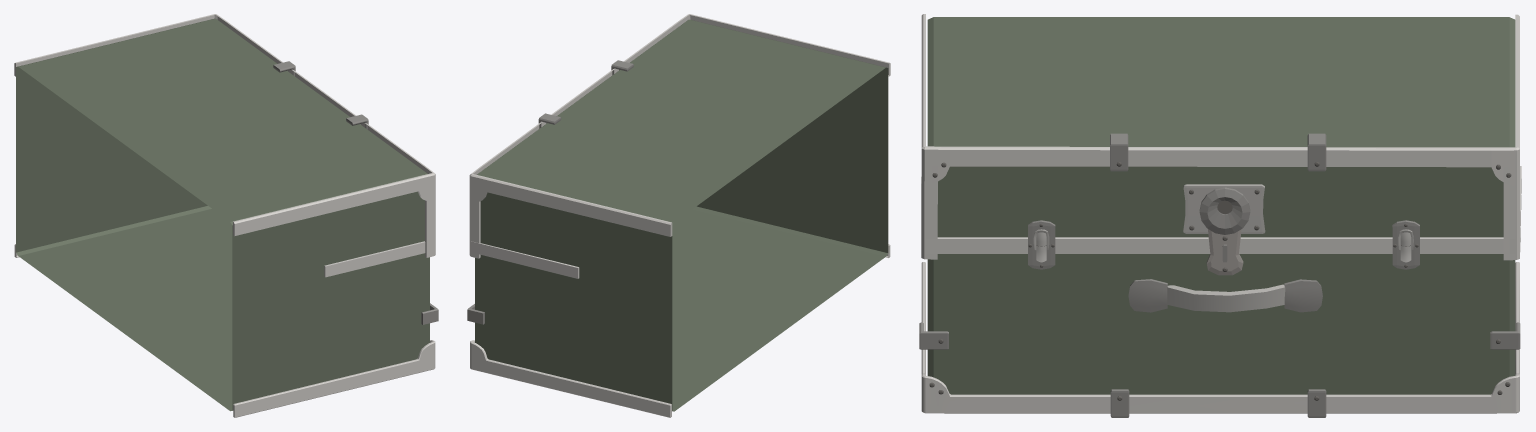
File: Mer'sBox.fbx
3 renders of one model, left to right at view 1: azimuth 30°, elevation 25°; view 2: azimuth 150°, elevation 25°; view 3: azimuth 270°, elevation 25°, orthographic. The views are drawn at different scales.
Parts seen in each view (by area): view 1: Cube.004; view 2: Cube.004; view 3: Cube.004.
Part boxes in pixels (x1,y1,x2,y2): Cube.004: (14, 14, 438, 417); Cube.004: (467, 14, 890, 417); Cube.004: (919, 14, 1521, 417).
Size of the model in its own units: 2.09 by 1.89 by 3.76.
